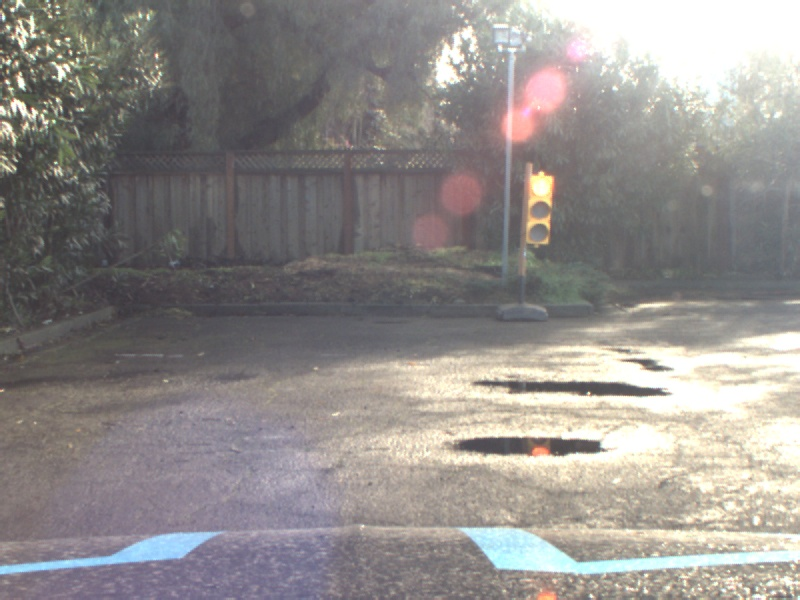Red: (525, 173, 553, 245)
